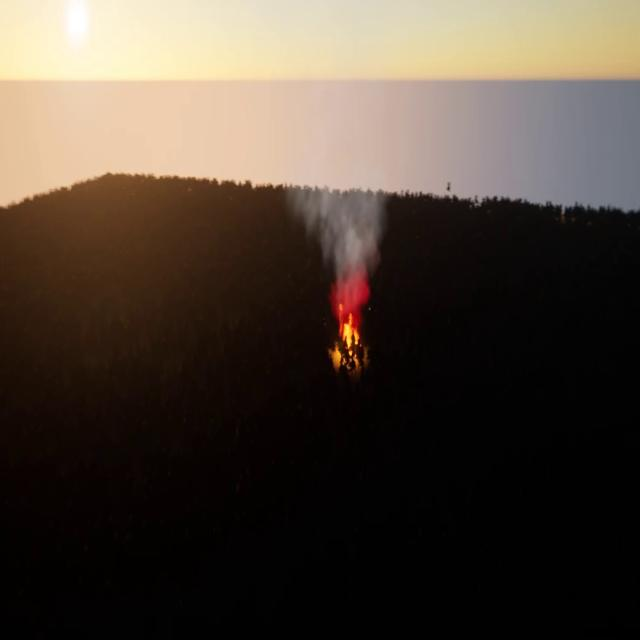fire: (334, 319, 366, 363)
smoke: (283, 180, 379, 310)
